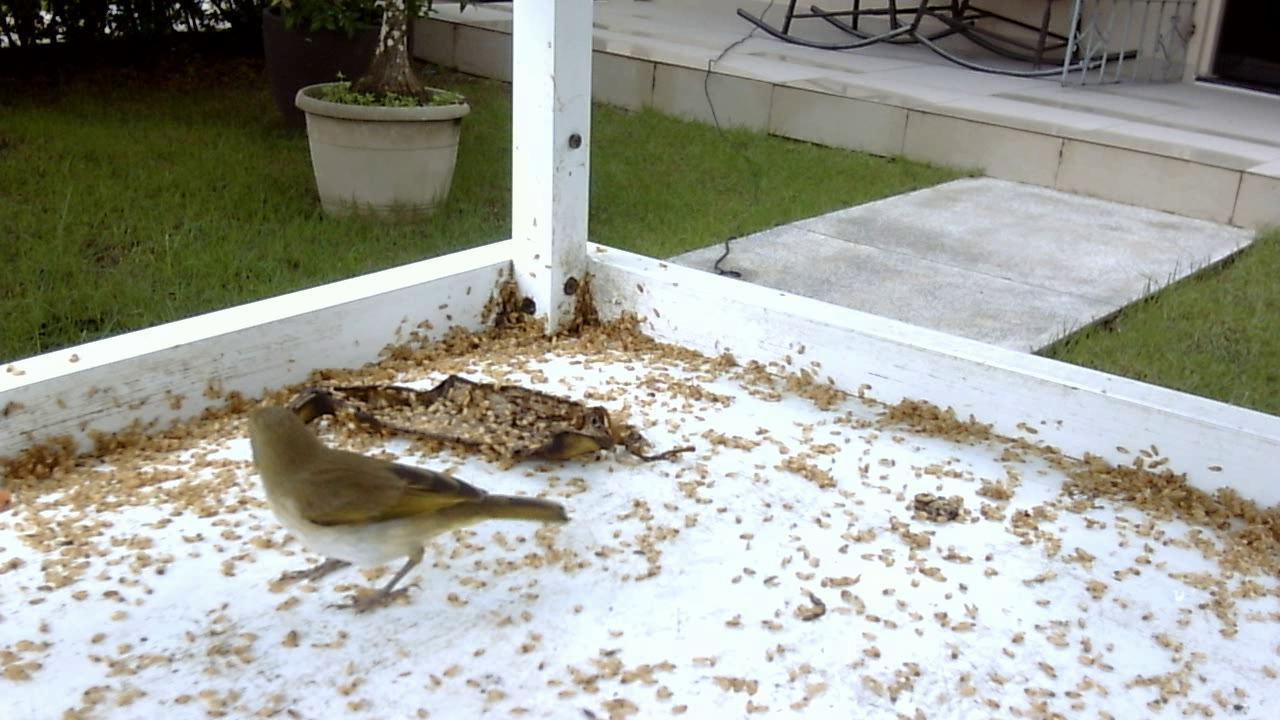canario_do_amazonas: (233, 382, 583, 622)
